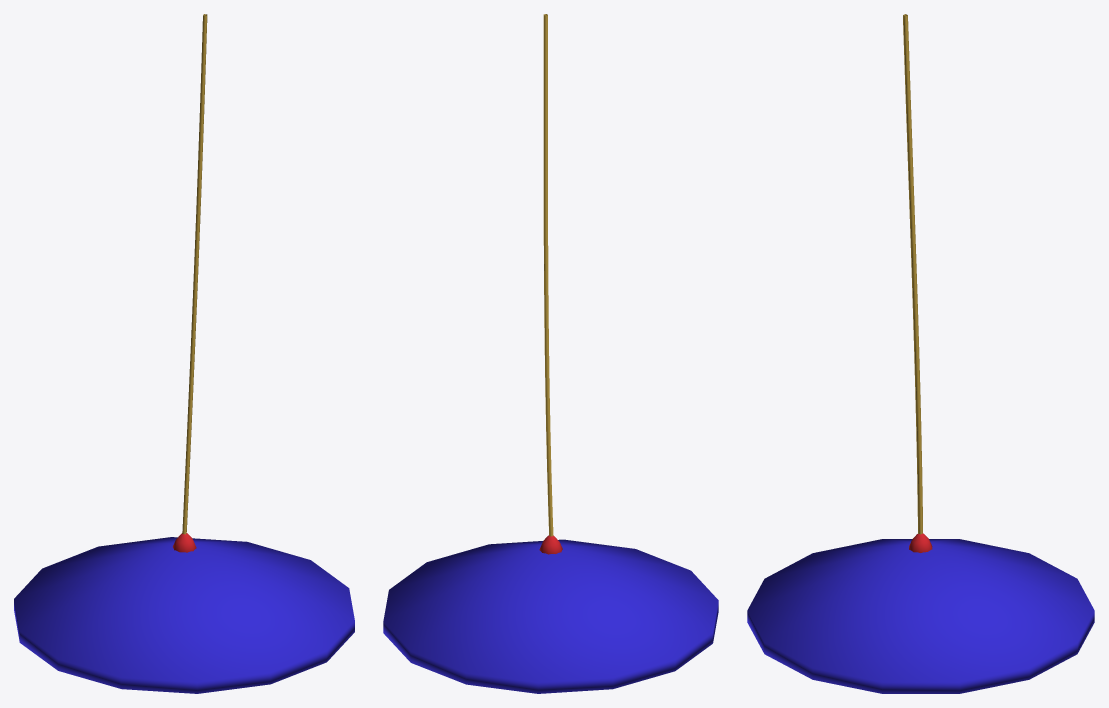
Rendered from lampada04.fbx.
The picture shows the model from 3 angles, left to right: view 1: azimuth 30°, elevation 25°; view 2: azimuth 150°, elevation 25°; view 3: azimuth 270°, elevation 25°; orthographic projection. The views are drawn at different scales.
Visible parts, largest first — view 1: lampada.001; view 2: lampada.001; view 3: lampada.001.
Part boxes in pixels (x1=…): lampada.001: x1=14, y1=14, x2=354, y2=693; lampada.001: x1=383, y1=14, x2=718, y2=693; lampada.001: x1=747, y1=14, x2=1094, y2=693.
Bounding box in the file's own units: 303 × 652 × 311.
